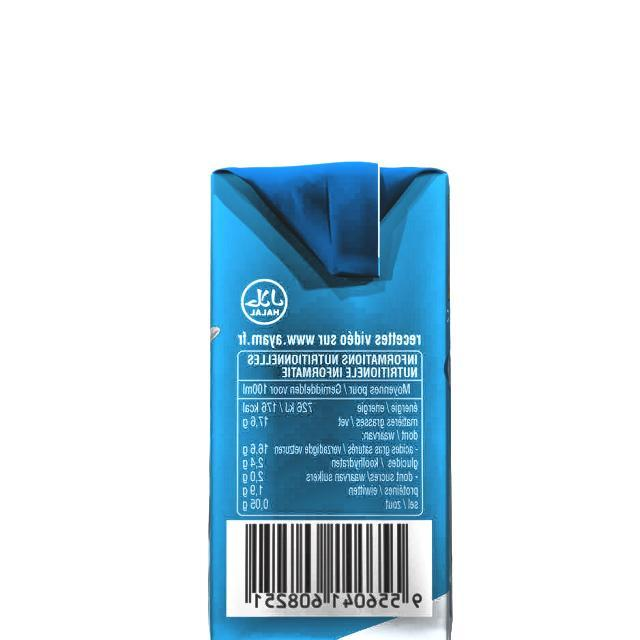cardboard: (209, 160, 452, 640)
